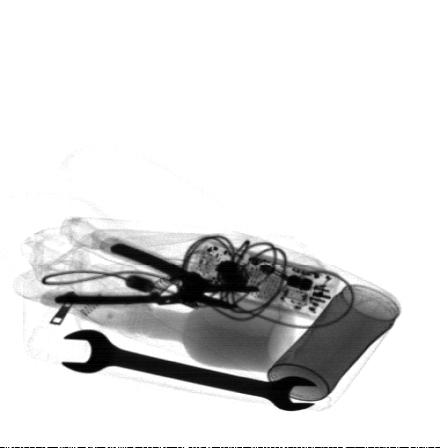Pliers: (40, 234, 264, 312)
Wrench: (58, 328, 319, 412)
